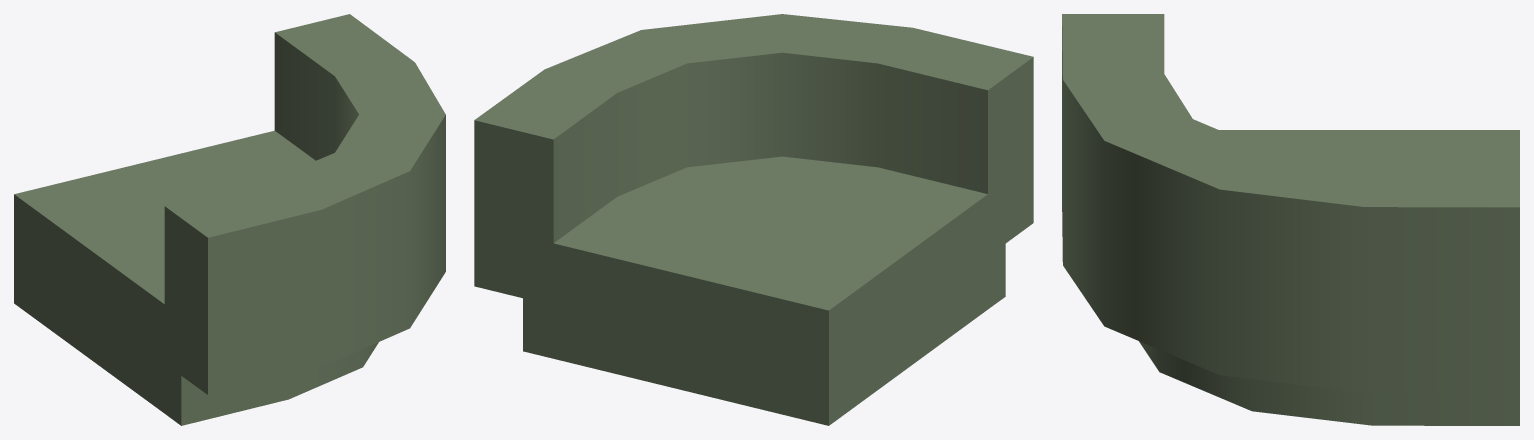
File: Sm_roofTopBasePredio_03.fbx
3 views of the same model, side by side, from view 1: azimuth 30°, elevation 25°; view 2: azimuth 150°, elevation 25°; view 3: azimuth 270°, elevation 25° (orthographic). The views are drawn at different scales.
Visible parts, largest first — view 1: Sm_roofTopBasePredio_03; view 2: Sm_roofTopBasePredio_03; view 3: Sm_roofTopBasePredio_03.
Part boxes in pixels (bbox=[...]): Sm_roofTopBasePredio_03: bbox=[14, 14, 445, 425]; Sm_roofTopBasePredio_03: bbox=[474, 14, 1033, 425]; Sm_roofTopBasePredio_03: bbox=[1062, 14, 1519, 425].
Bounding box in the file's own units: 1.29 × 0.7609 × 1.29.
